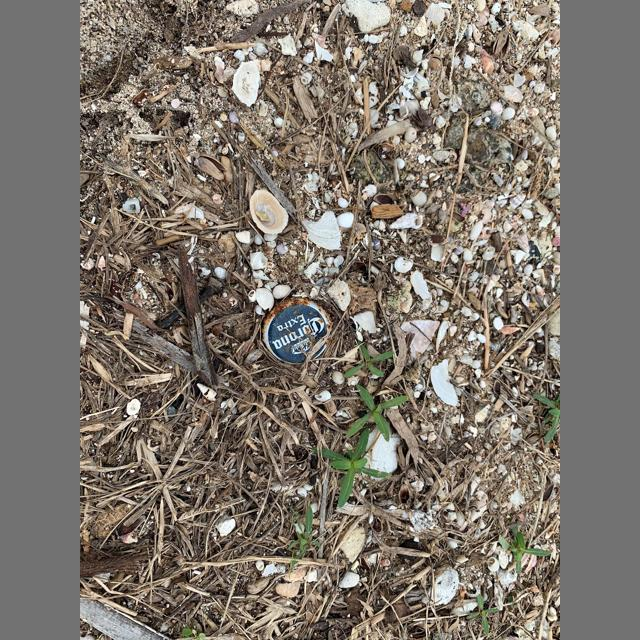litter: (262, 297, 333, 364)
